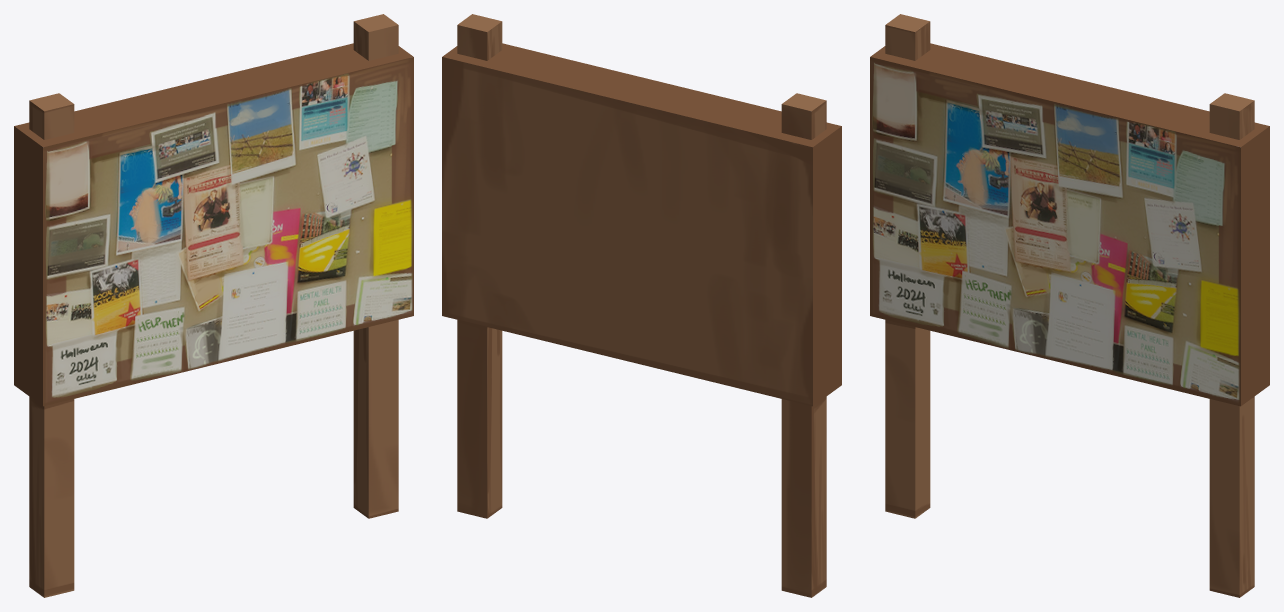
File: BulletinBoard.fbx
The picture shows the model from 3 angles, left to right: view 1: azimuth 30°, elevation 25°; view 2: azimuth 150°, elevation 25°; view 3: azimuth 330°, elevation 25°; orthographic projection.
Parts seen in each view (by area): view 1: Cube.001; view 2: Cube.001; view 3: Cube.001.
Part boxes in pixels (x1,y1,x2,y2): Cube.001: (14,14,413,597); Cube.001: (442,14,841,597); Cube.001: (870,14,1269,597).
Bounding box in the file's own units: 395 × 495 × 53.45.
Materials: 1 (1 with a texture image).
